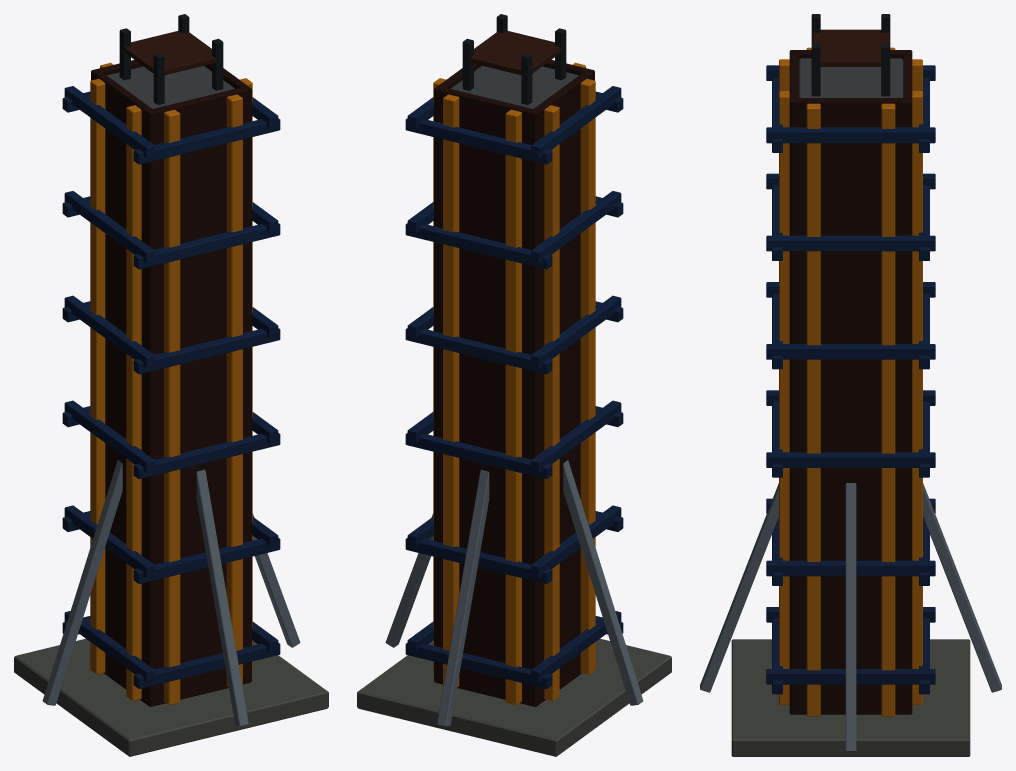
Rendered from mod_concrete_column_formwork_3m.glb.
3 views of the same model, side by side, from view 1: azimuth 30°, elevation 25°; view 2: azimuth 150°, elevation 25°; view 3: azimuth 270°, elevation 25° (orthographic). The views are drawn at different scales.
Parts seen in each view (by area): view 1: Mod_Concrete_Column_Formwork_3m; view 2: Mod_Concrete_Column_Formwork_3m; view 3: Mod_Concrete_Column_Formwork_3m.
Part boxes in pixels (x1,y1,x2,y2): Mod_Concrete_Column_Formwork_3m: [14, 14, 328, 756]; Mod_Concrete_Column_Formwork_3m: [357, 14, 671, 756]; Mod_Concrete_Column_Formwork_3m: [700, 14, 1001, 756].
Size of the model in its own units: 1.21 by 3 by 1.21.
